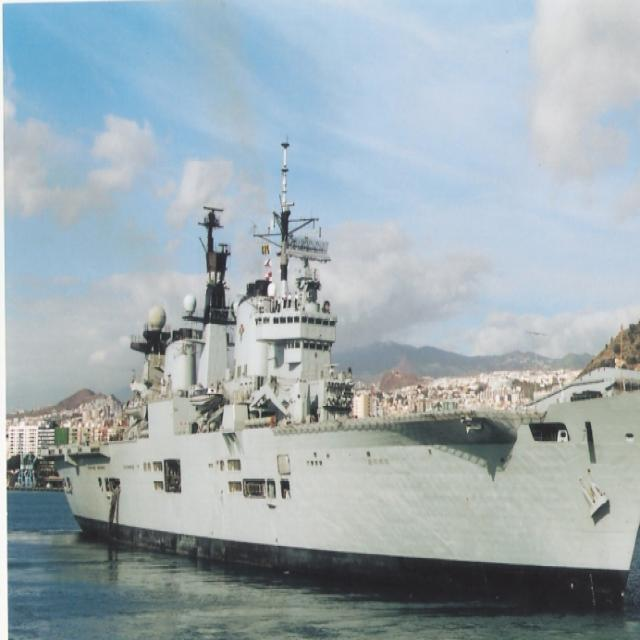Portanaves: (32, 91, 640, 622)
